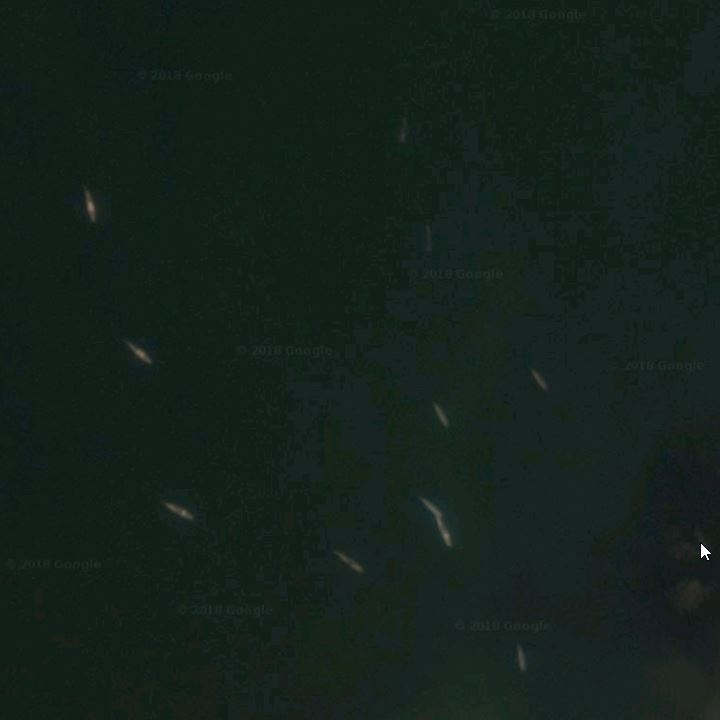boat: (150, 490, 208, 532), (116, 328, 156, 373), (331, 544, 371, 584), (414, 487, 454, 525), (521, 359, 556, 400), (76, 177, 102, 228), (427, 390, 454, 439), (511, 635, 534, 684), (435, 513, 456, 558)
